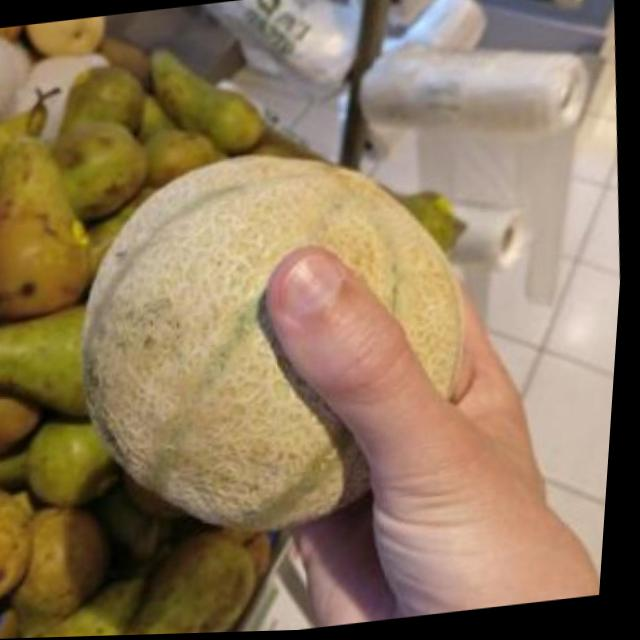Cantaloupe: (57, 132, 492, 556)
